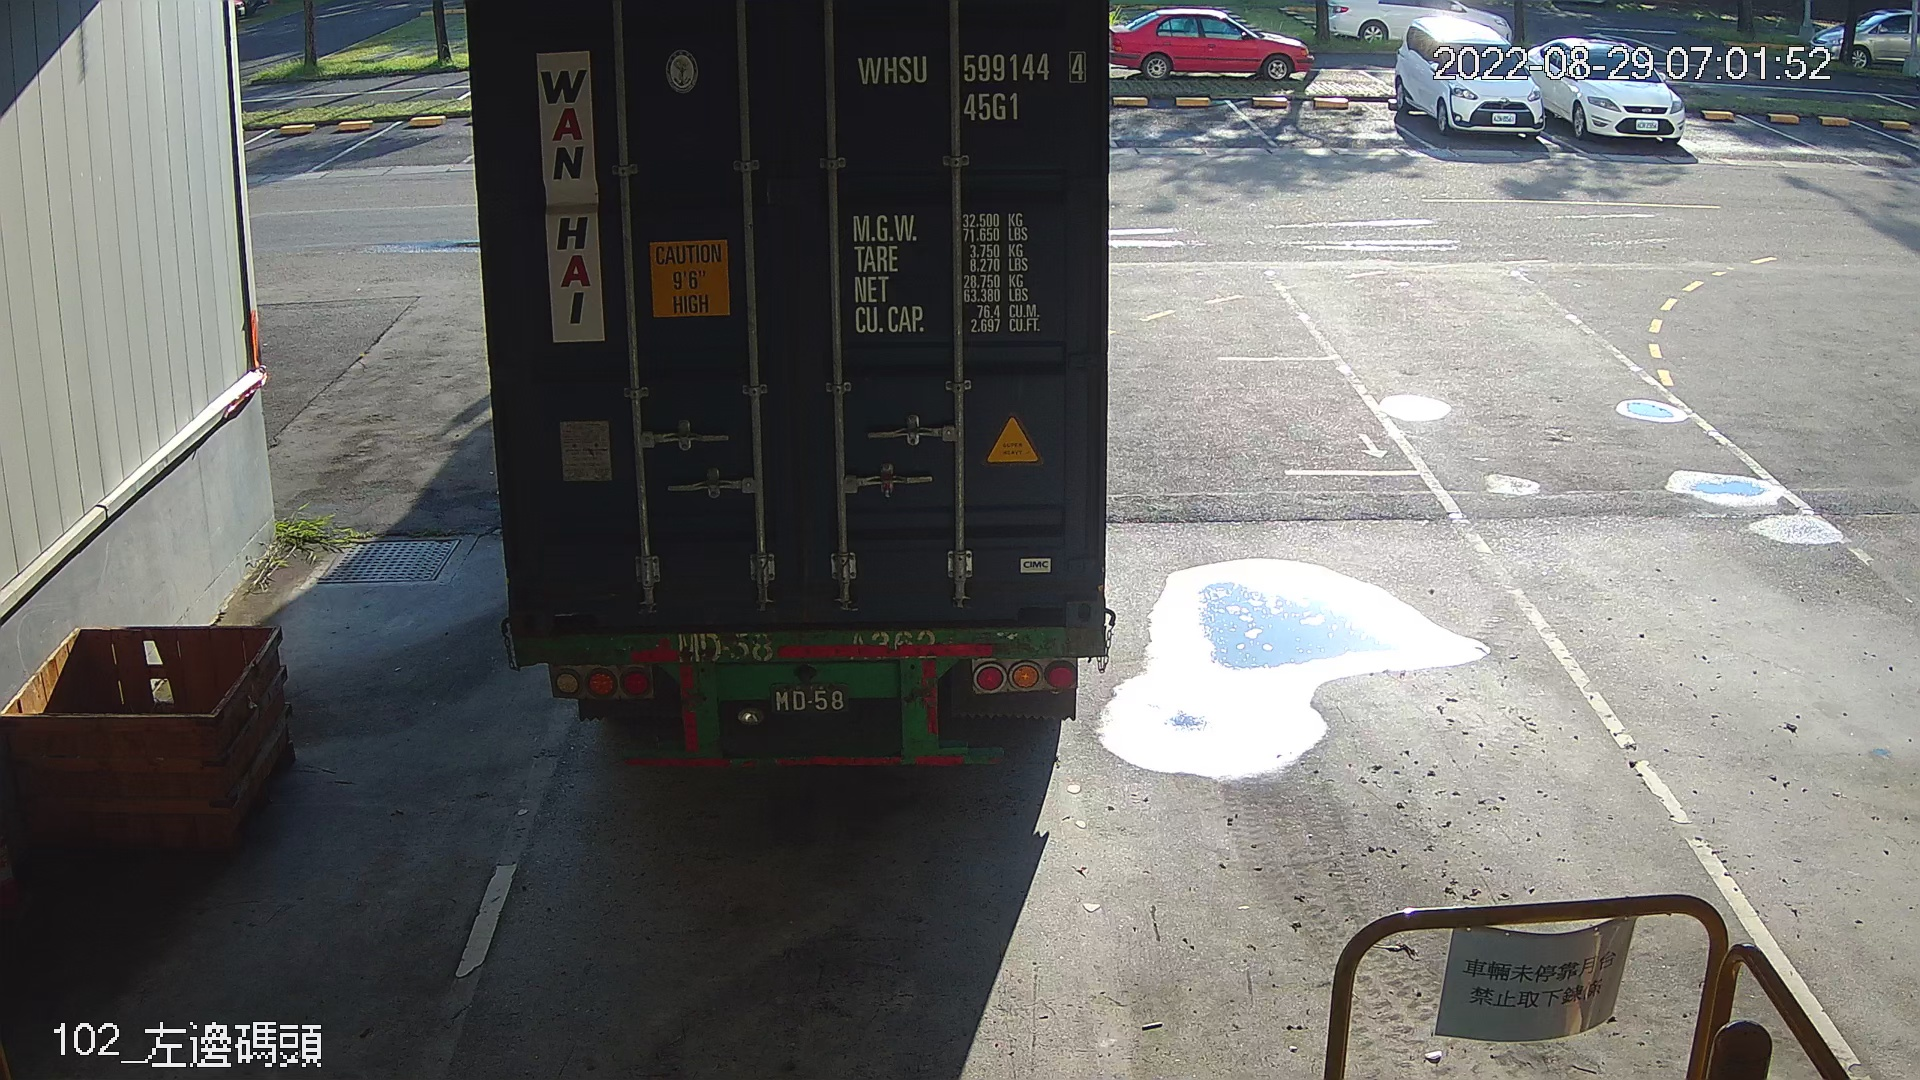container: (841, 36, 1095, 132)
